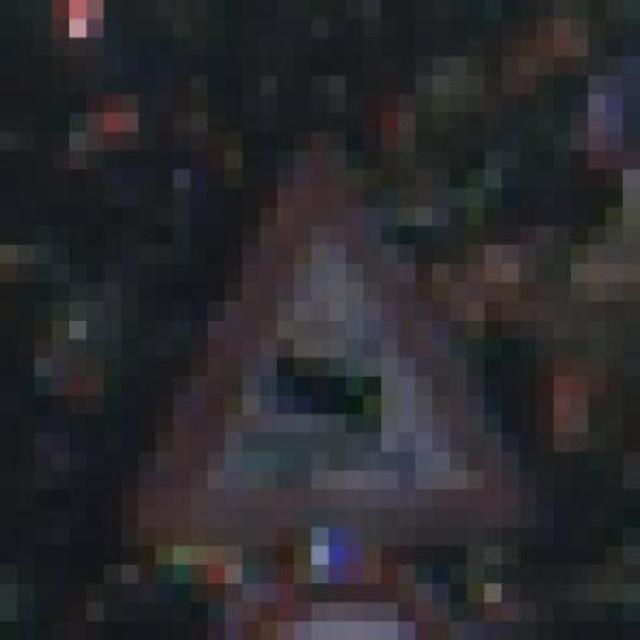Slippery Road Ahead: (103, 132, 554, 546)
